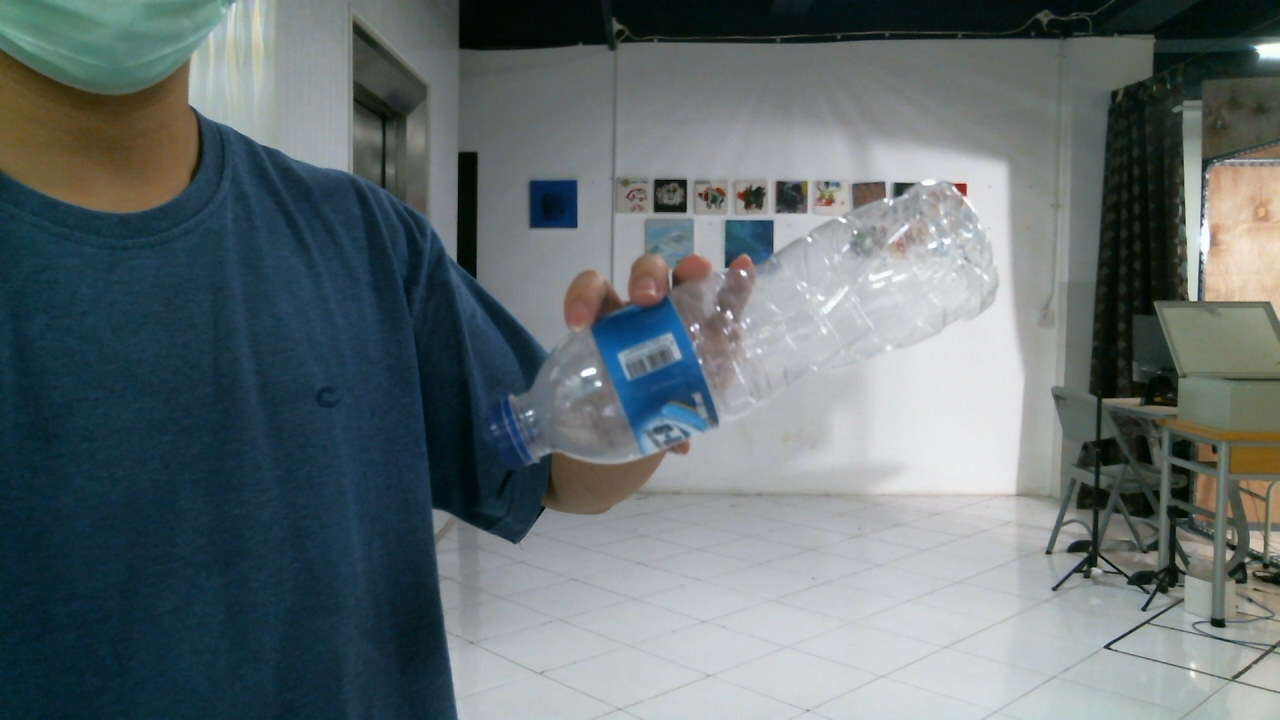Bottle: (476, 180, 997, 476)
